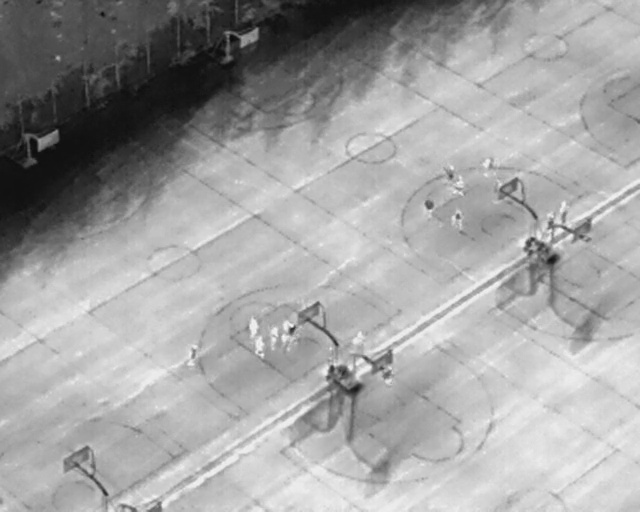Person: (281, 320, 296, 346), (483, 153, 498, 176), (186, 341, 200, 364), (248, 315, 259, 338), (425, 196, 436, 217), (454, 174, 465, 195), (255, 336, 265, 358), (453, 207, 462, 231), (270, 325, 278, 349), (560, 200, 569, 221), (447, 163, 456, 183)
